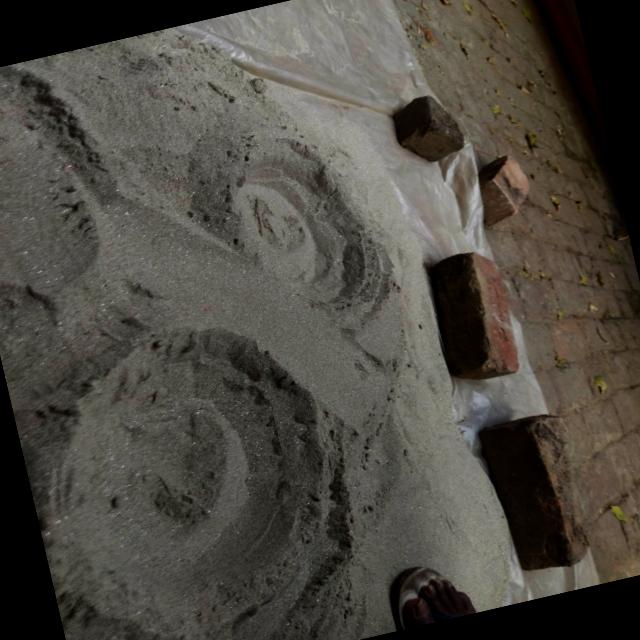C20: (61, 329, 296, 640), (234, 137, 380, 313)
